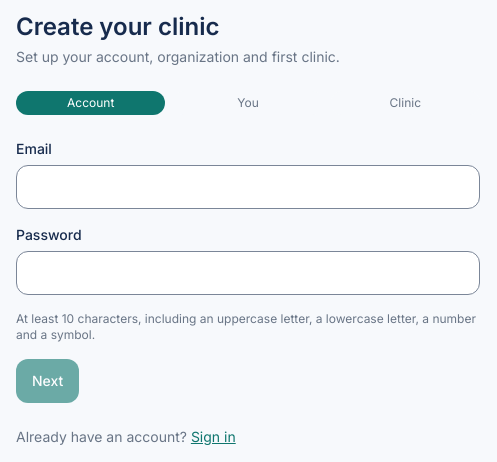
Test: Registration wizard (AC-002) › preserves the entered values when the user steps back
Type "wizard@riaya.local" into the field labelled "Email" at {"x": 248, "y": 187}, box [16,165,480,209]
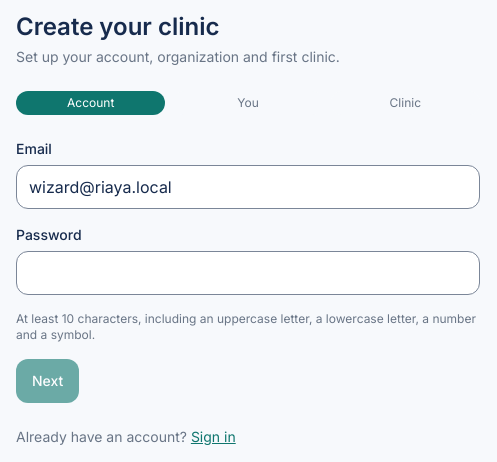
Type "WizardPass123!" into the password field labelled "Password" at {"x": 248, "y": 273}, box [16,251,480,295]
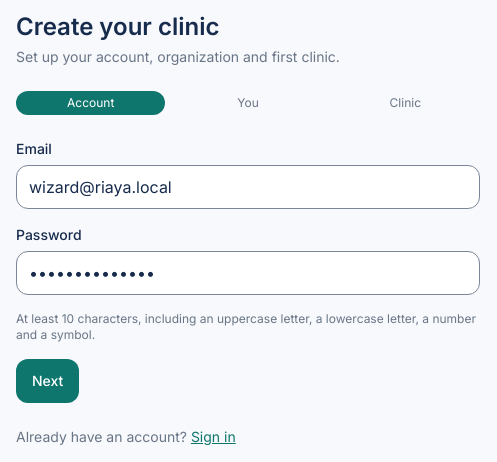
Click the button "Next" at {"x": 48, "y": 381}, box [16,359,79,403]
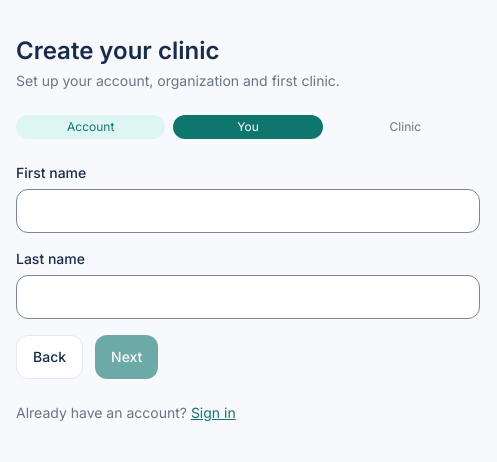
Type "Wizard" into the field labelled "First name" at {"x": 248, "y": 211}, box [16,189,480,233]
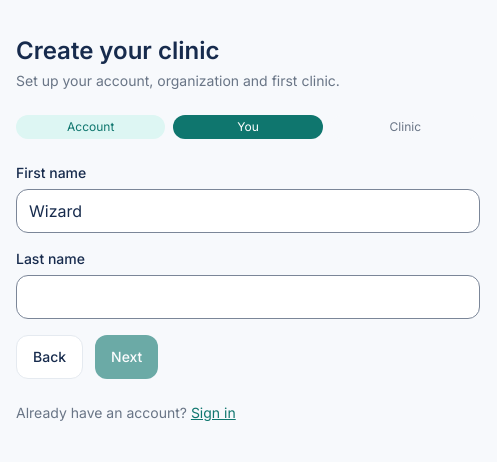
Click the button "Back" at {"x": 50, "y": 357}, box [16,335,83,379]
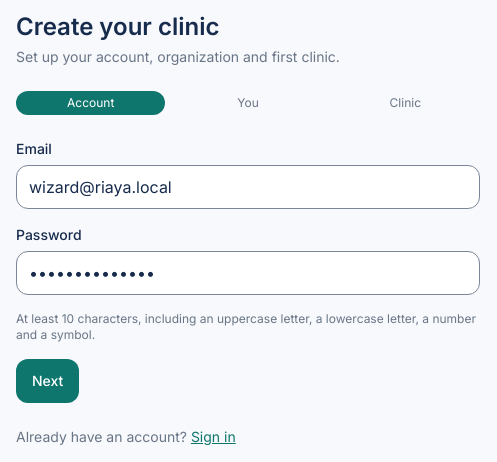
Check: the field labelled "Email" holds "wizard@riaya.local", box [16,165,480,209]
Check: the password field labelled "Password" holds "WizardPass123!", box [16,251,480,295]
